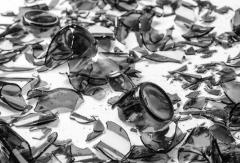glass: (115, 80, 177, 136), (41, 21, 101, 72), (22, 9, 62, 39)
